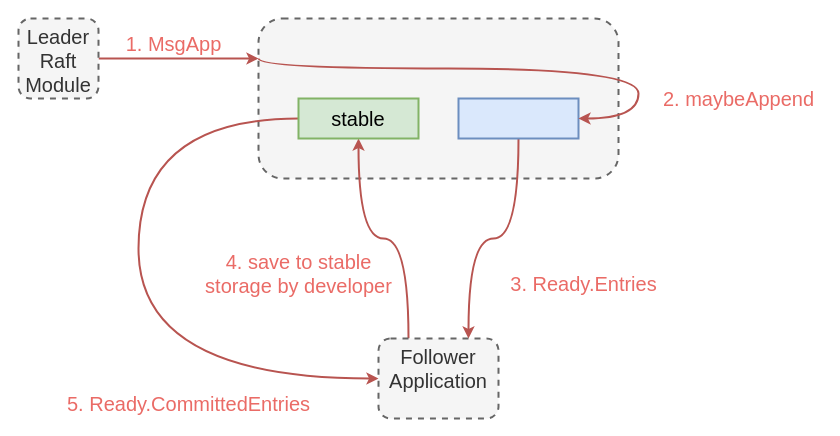
This 840x436 diagram has some shape labels left out. The shapes that lost their labels are listed below. From the top down, each one's box as (x1, y1, x2, y2) in pixels, then its label:
(257, 17, 619, 179): Follower Raft Module
(457, 97, 579, 139): unstable
